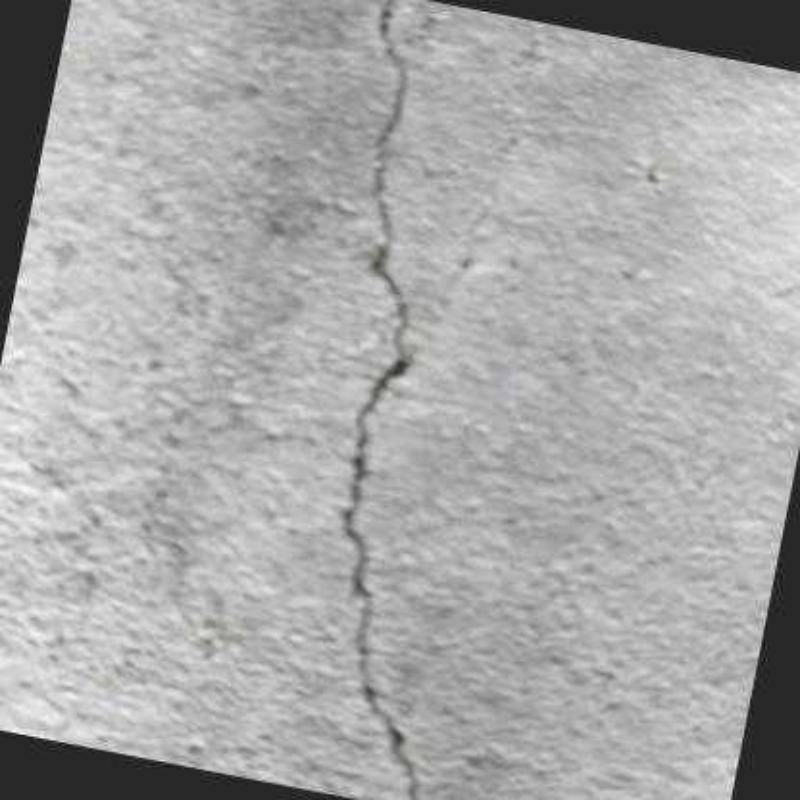pothole: (341, 0, 420, 800)
